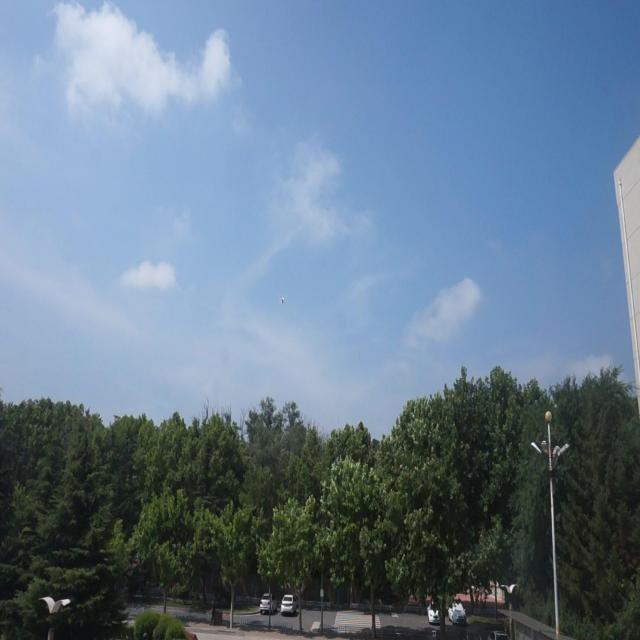UAV: (278, 294, 286, 304)
